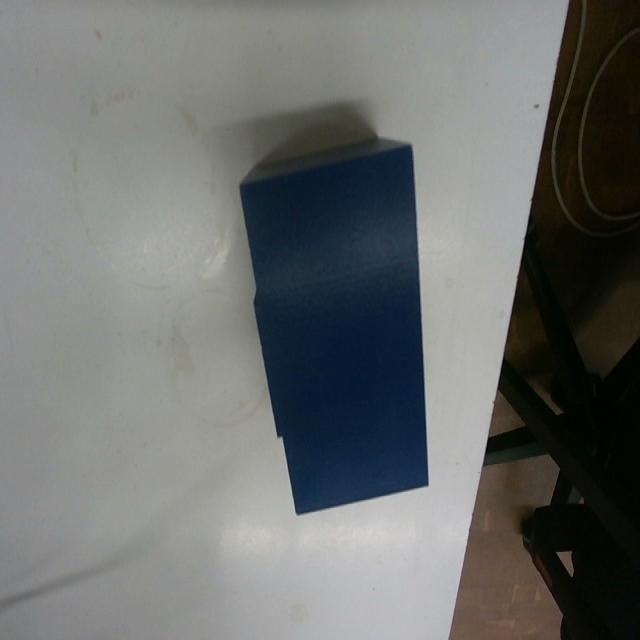Blue Cuboid: (236, 129, 432, 516)
